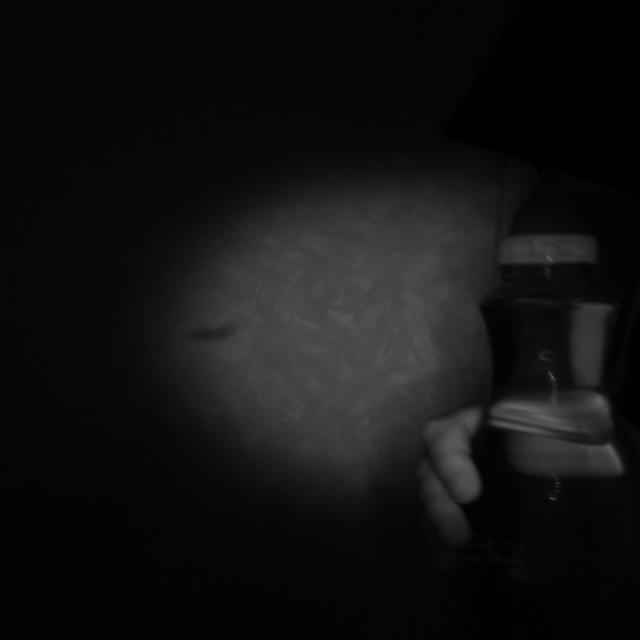Good: (495, 234, 603, 268)
